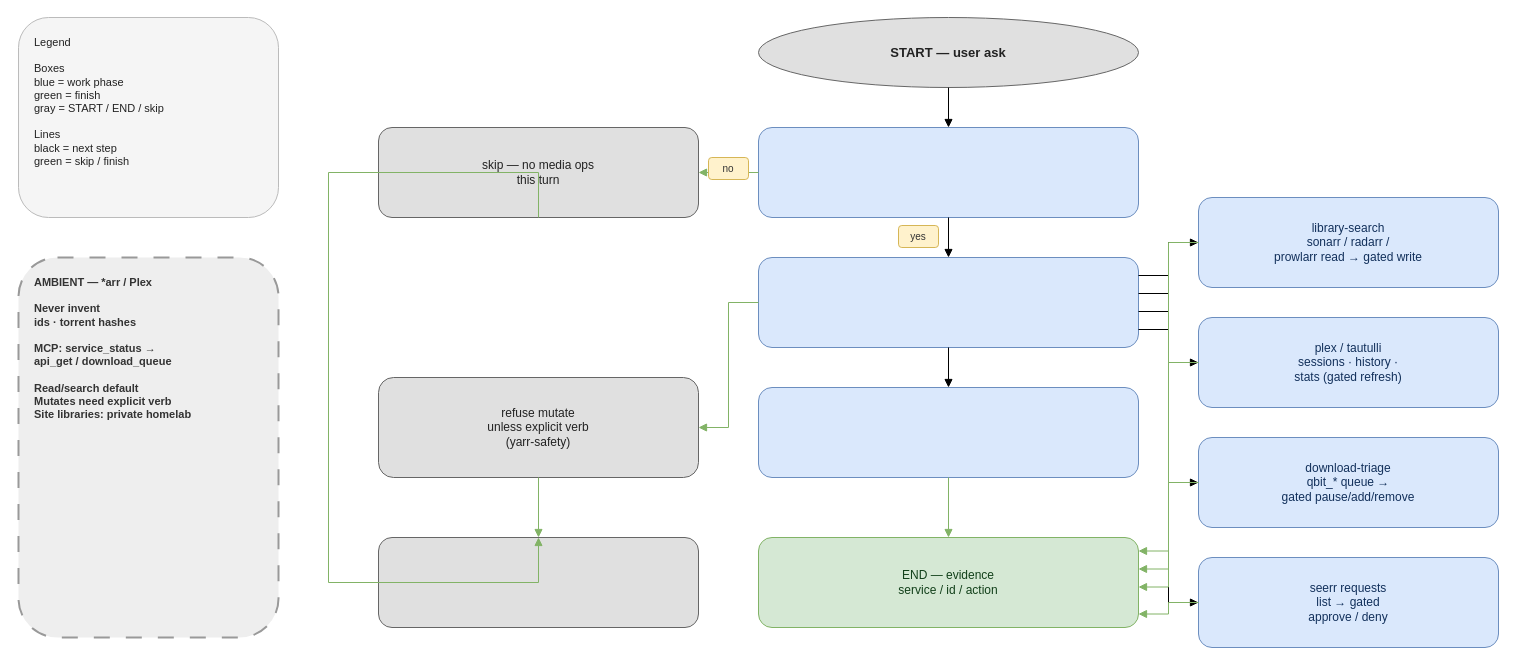
Some shapes in this 1516 by 665 pixel diagram are drawn without their labels. The shapes that lost their labels are listed below. From the top down, each one's centre as x and y in pixels, then its label:
At point (948, 172): "gate · media fleet? *arr / Plex / qBit / Seerr / Tautulli named?".
At point (948, 302): "route · inventory vs *arr vs Plex vs qBit vs Seerr vs mutate".
At point (948, 432): "inventory service_status on named fleet tools".
At point (538, 582): "END — stay out".
